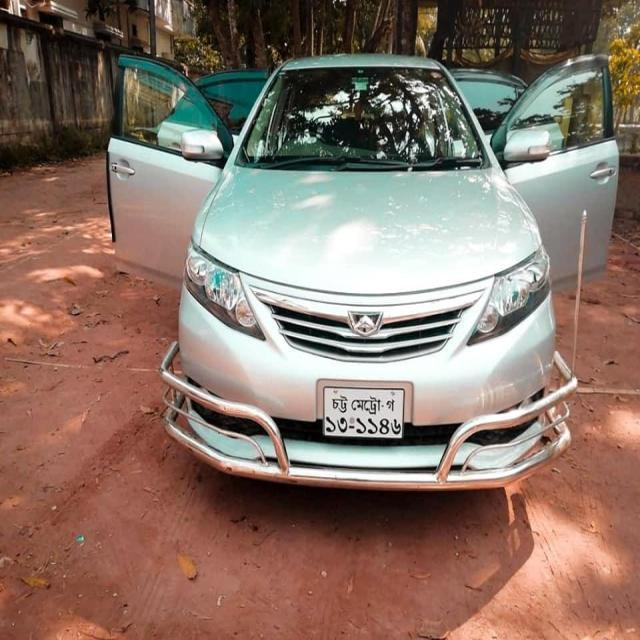numberplate: (321, 384, 405, 440)
